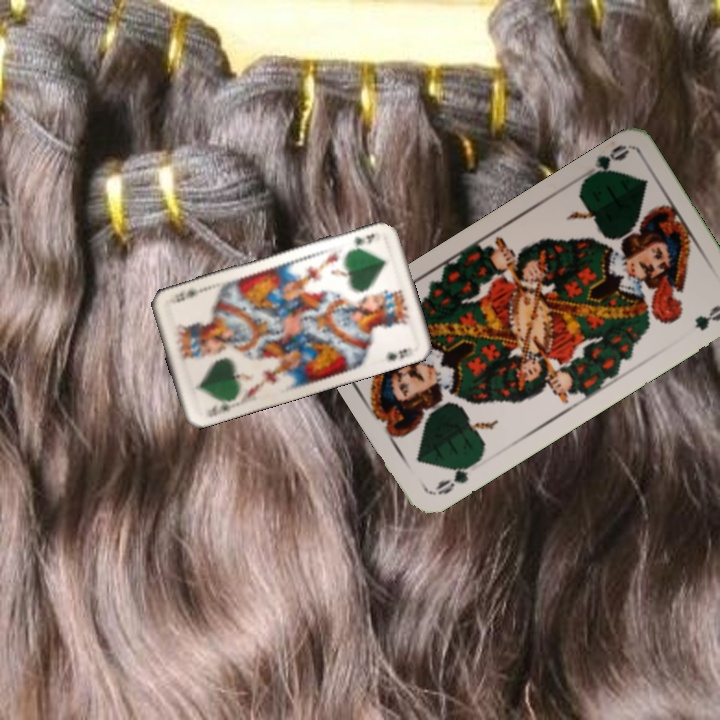GK: (350, 229, 378, 248), (207, 401, 229, 420)
GO: (579, 140, 630, 186), (431, 457, 481, 498)
